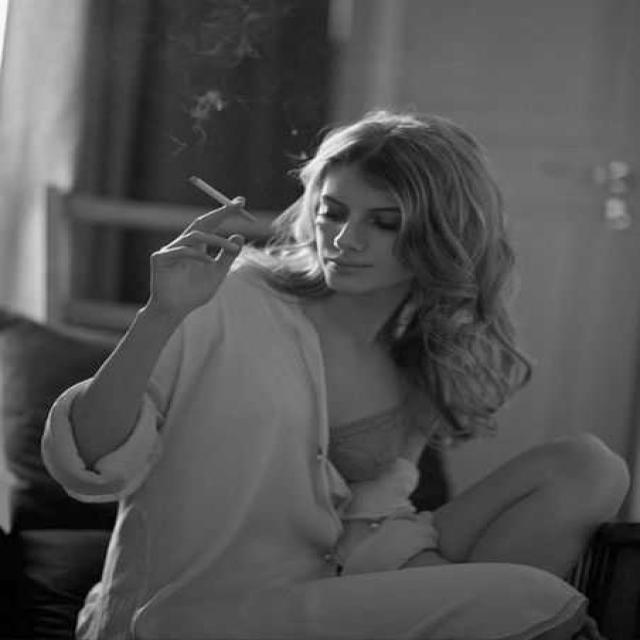Smooking: (186, 168, 278, 236)
